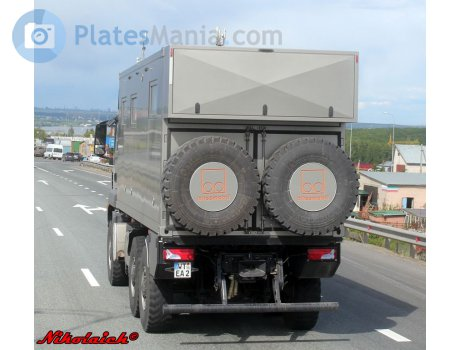License Plates: (172, 259, 192, 277)
